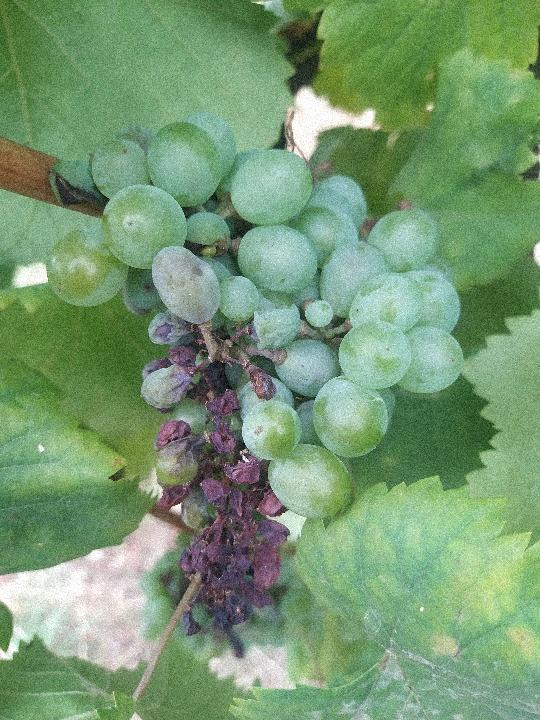grape: (45, 109, 469, 637)
